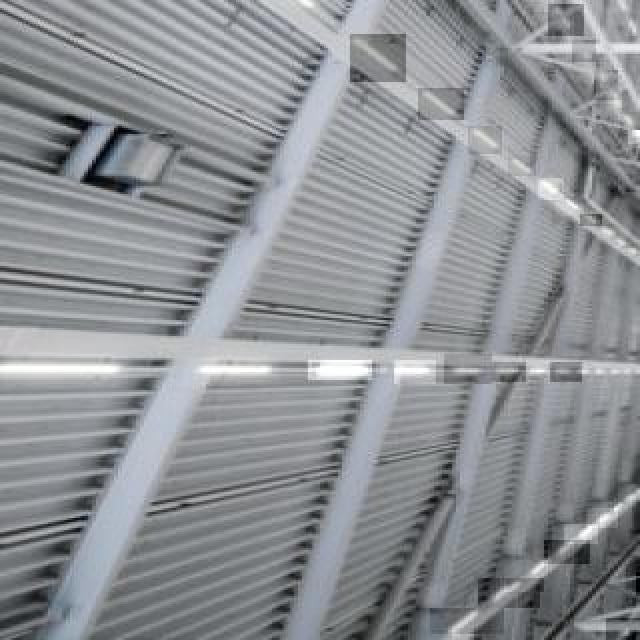fluorescent tube: (329, 31, 415, 94), (0, 355, 127, 397), (196, 351, 280, 389), (302, 360, 382, 387), (418, 89, 462, 126), (549, 8, 584, 36), (242, 0, 320, 12), (469, 125, 496, 153)
